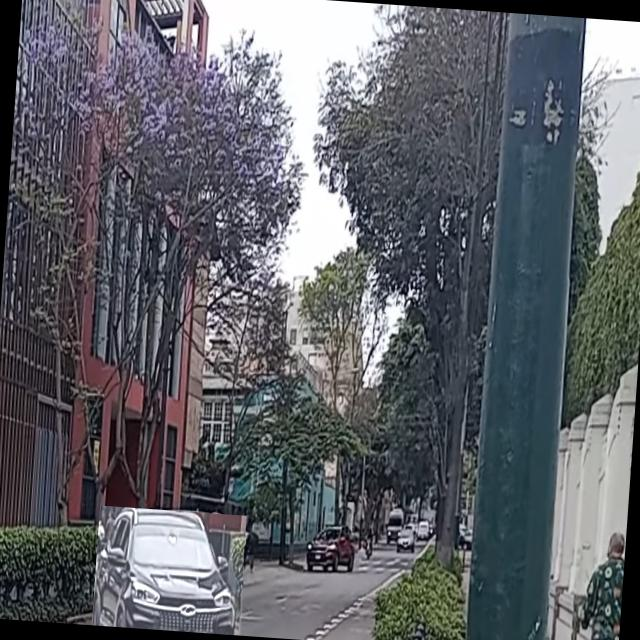car: (91, 505, 246, 635), (304, 524, 356, 574), (395, 526, 416, 553)
